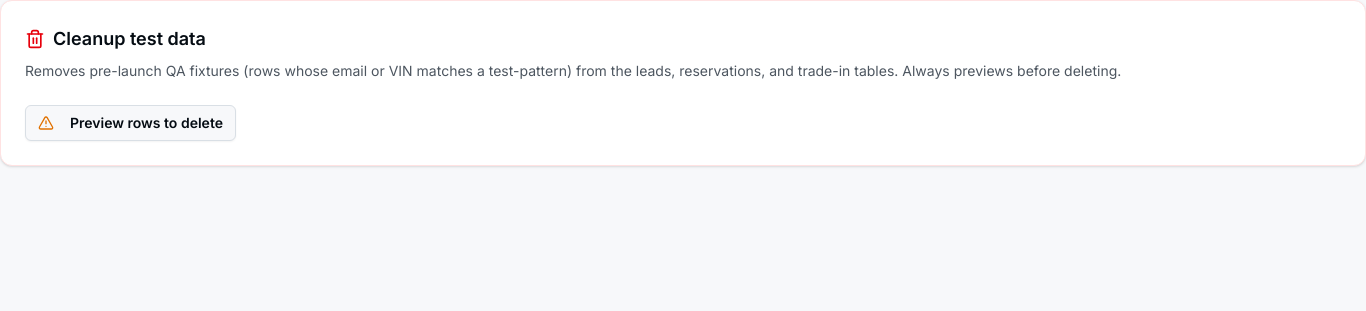
Scenario: CleanupTestDataCard › disables delete button when no rows match
Click the button "Preview rows to delete" at {"x": 130, "y": 123}, box [25, 105, 236, 141]
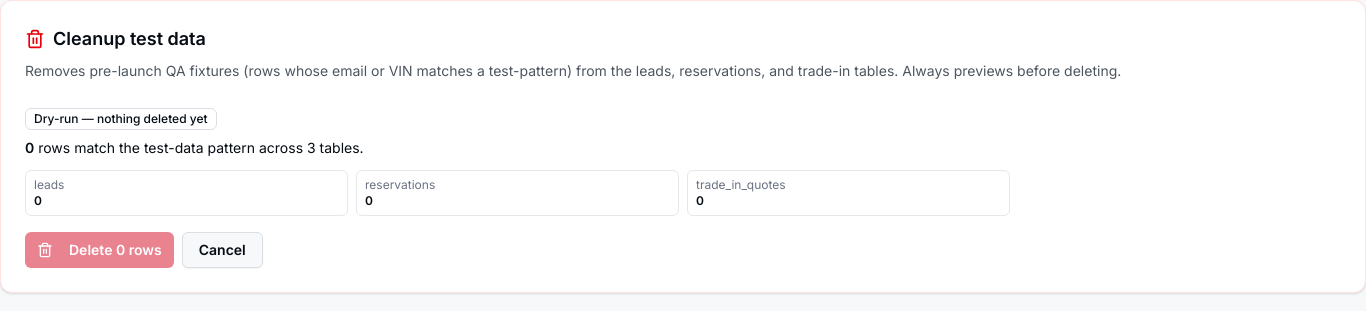
Expected: the button "Delete 0 rows" is disabled, [25, 232, 174, 268]
